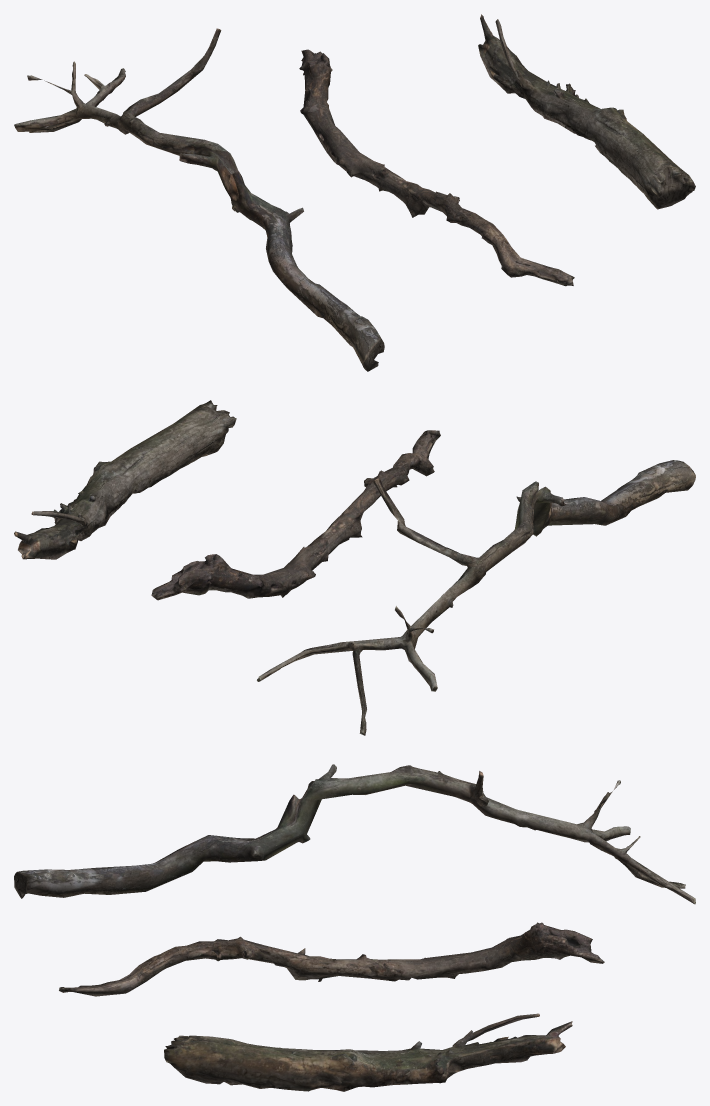
Rendered from dry_branches_medium_01_rt.gltf.
The picture shows the model from 3 angles, top to bottom: view 1: azimuth 30°, elevation 25°; view 2: azimuth 150°, elevation 25°; view 3: azimuth 270°, elevation 25°; orthographic projection. The views are drawn at different scales.
Visible parts, largest first — view 1: dry_branches_medium_01_a, dry_branches_medium_01_c, dry_branches_medium_01_b; view 2: dry_branches_medium_01_a, dry_branches_medium_01_c, dry_branches_medium_01_b; view 3: dry_branches_medium_01_a, dry_branches_medium_01_c, dry_branches_medium_01_b.
Boxes of the visible parts, x1=… form: dry_branches_medium_01_a: x1=14, y1=28, x2=384, y2=371; dry_branches_medium_01_c: x1=478, y1=14, x2=695, y2=209; dry_branches_medium_01_b: x1=299, y1=49, x2=574, y2=286; dry_branches_medium_01_a: x1=257, y1=460, x2=695, y2=735; dry_branches_medium_01_c: x1=14, y1=400, x2=236, y2=559; dry_branches_medium_01_b: x1=151, y1=430, x2=440, y2=600; dry_branches_medium_01_a: x1=14, y1=764, x2=695, y2=904; dry_branches_medium_01_c: x1=164, y1=1013, x2=572, y2=1091; dry_branches_medium_01_b: x1=59, y1=922, x2=604, y2=996.
Bounding box in the file's own units: 1.06 × 0.3401 × 1.3.
1 material, 1 textured.
